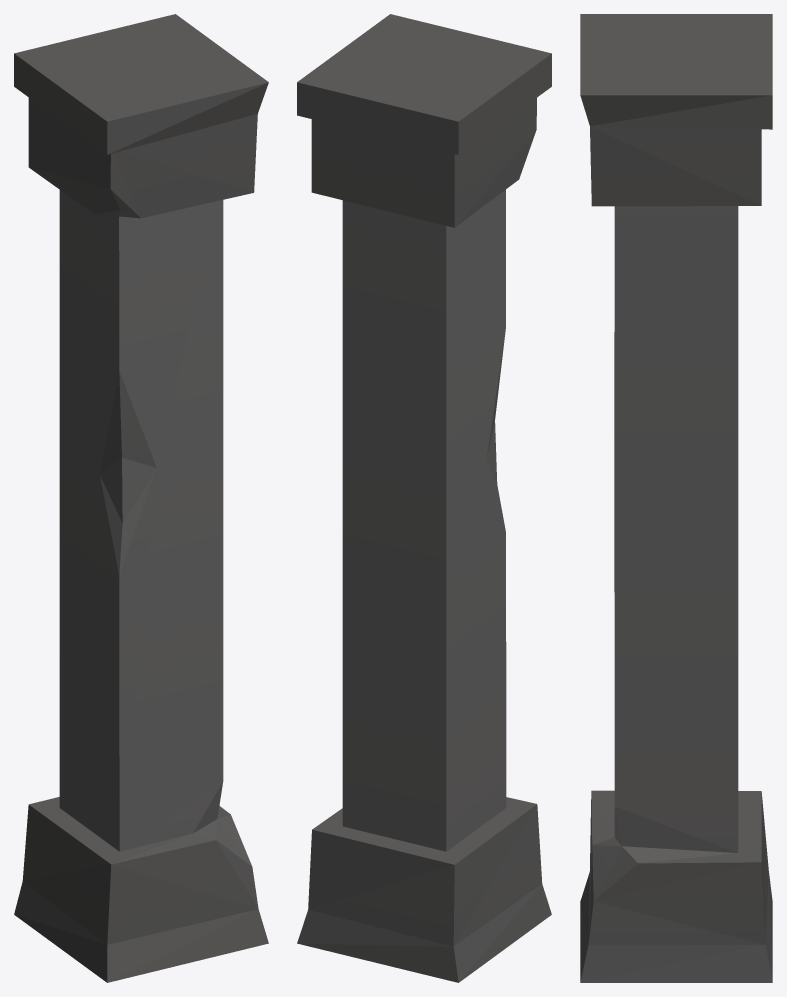
Rendered from Column_01_dra.glb.
3 views of the same model, side by side, from view 1: azimuth 30°, elevation 25°; view 2: azimuth 150°, elevation 25°; view 3: azimuth 270°, elevation 25° (orthographic). The views are drawn at different scales.
Visible parts, largest first — view 1: Column_01; view 2: Column_01; view 3: Column_01.
Boxes of the visible parts, x1,y1,x2,y2 form: Column_01: (14, 14, 268, 982); Column_01: (297, 14, 551, 982); Column_01: (580, 14, 772, 982).
Bounding box in the file's own units: 0.7855 × 4 × 0.7855.
Materials: 1 (1 with a texture image).
